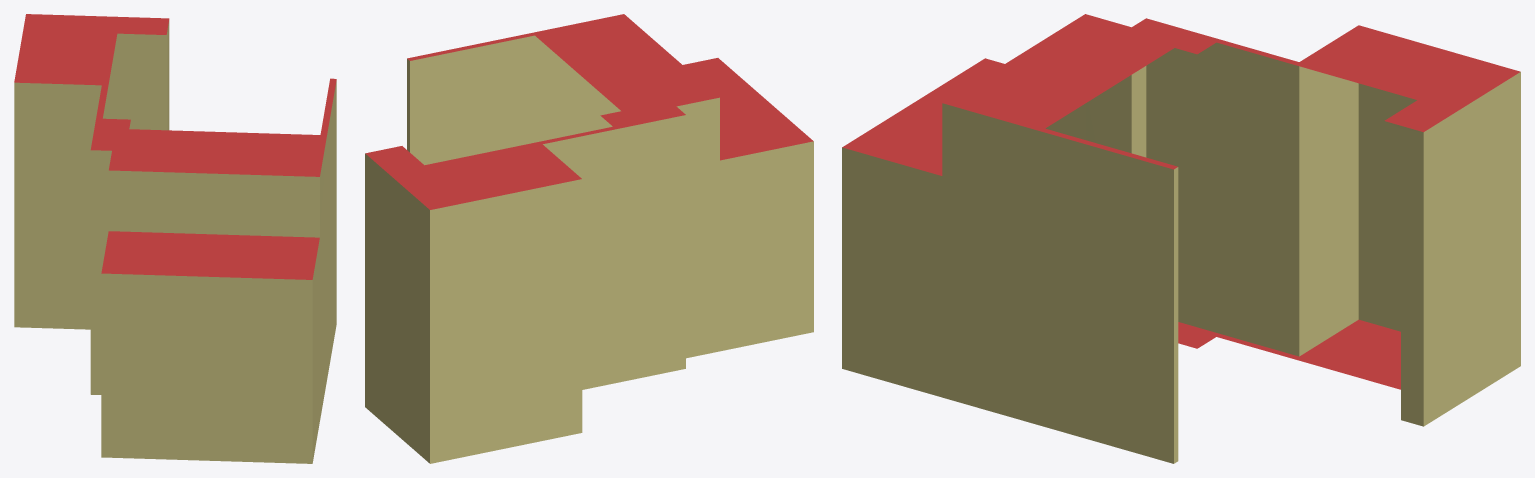
3 renders of one model, left to right at view 1: azimuth 30°, elevation 25°; view 2: azimuth 150°, elevation 25°; view 3: azimuth 270°, elevation 25°, orthographic. The views are drawn at different scales.
Bounding box in the file's own units: 13.57 × 21.13 × 10.11.
